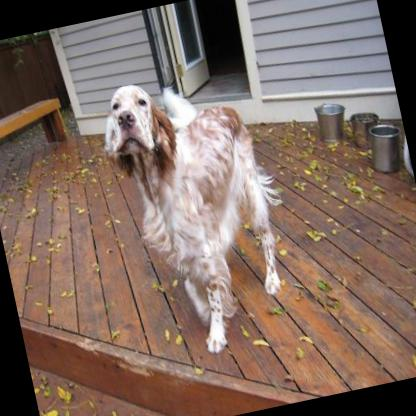English_setter: (86, 45, 310, 377)
